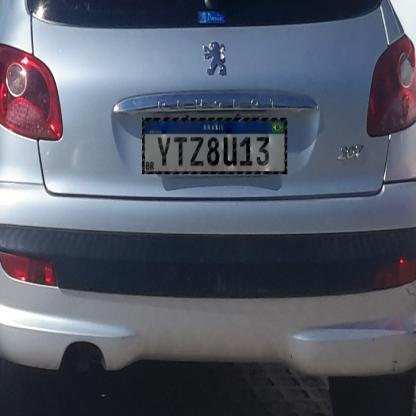PlacaM: (142, 118, 287, 174)
